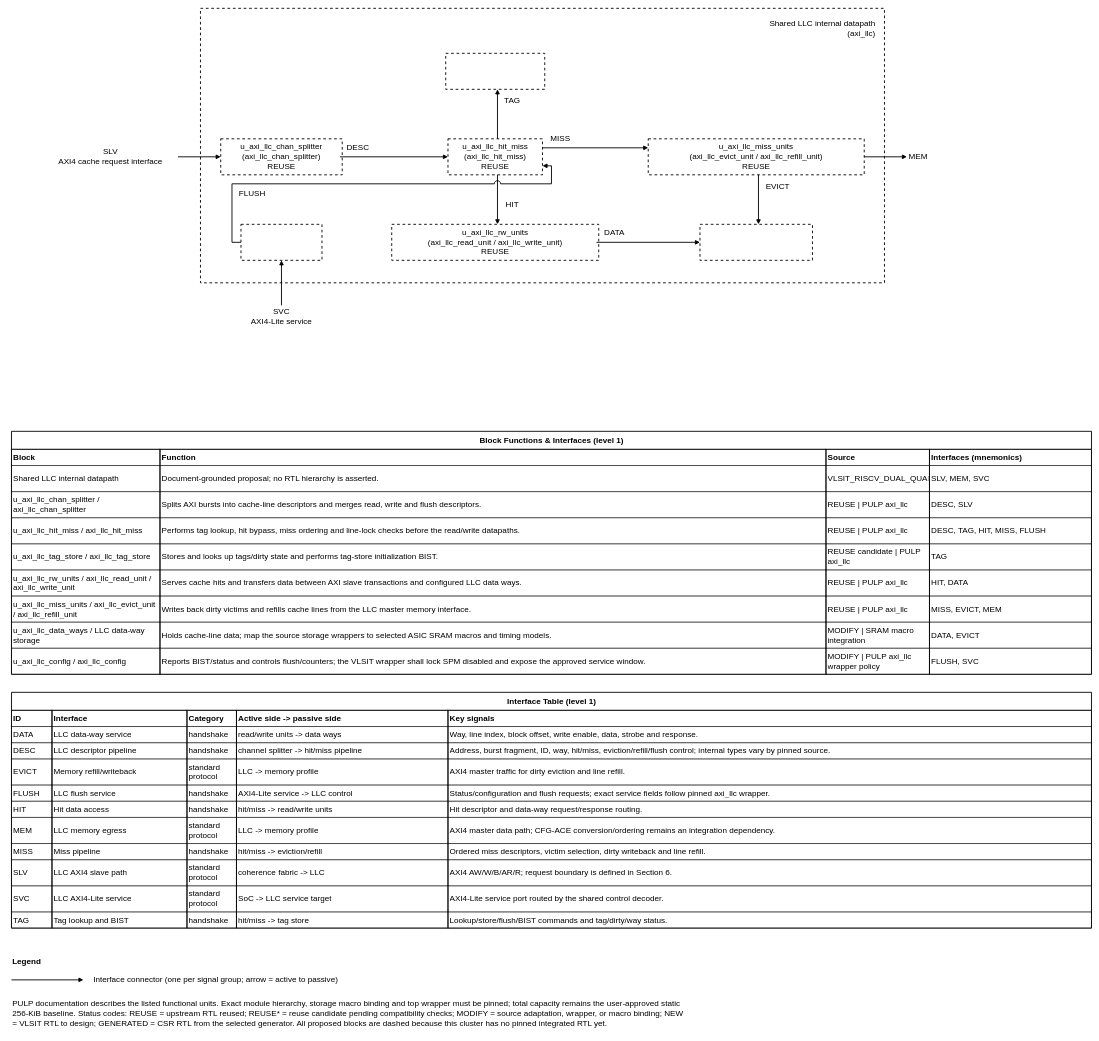
Image size: 1099x1041. Some labels were removed from this diagram. Here are the shapes that lost their labels. From the top down, the centre of each, then its label:
the point at 495,71: u_axi_llc_tag_store (axi_llc_tag_store) REUSE*
the point at 281,242: u_axi_llc_config (axi_llc_config) MODIFY
the point at 756,242: u_axi_llc_data_ways (LLC data-way storage) MODIFY
